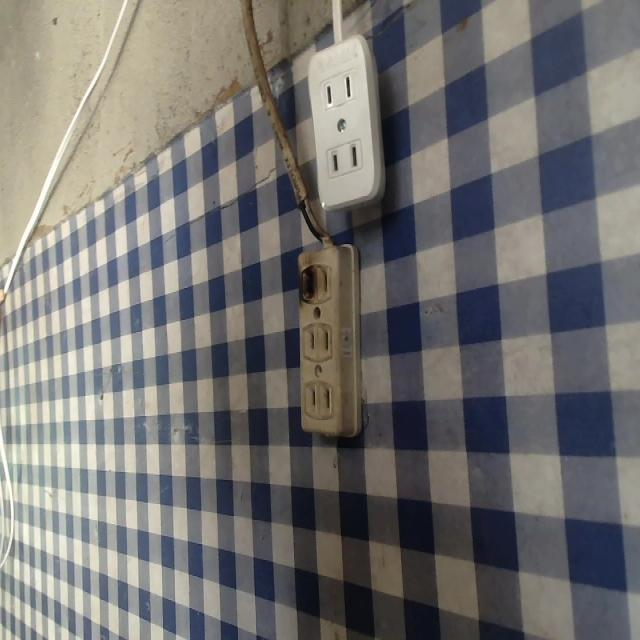-: (292, 253, 319, 310)
